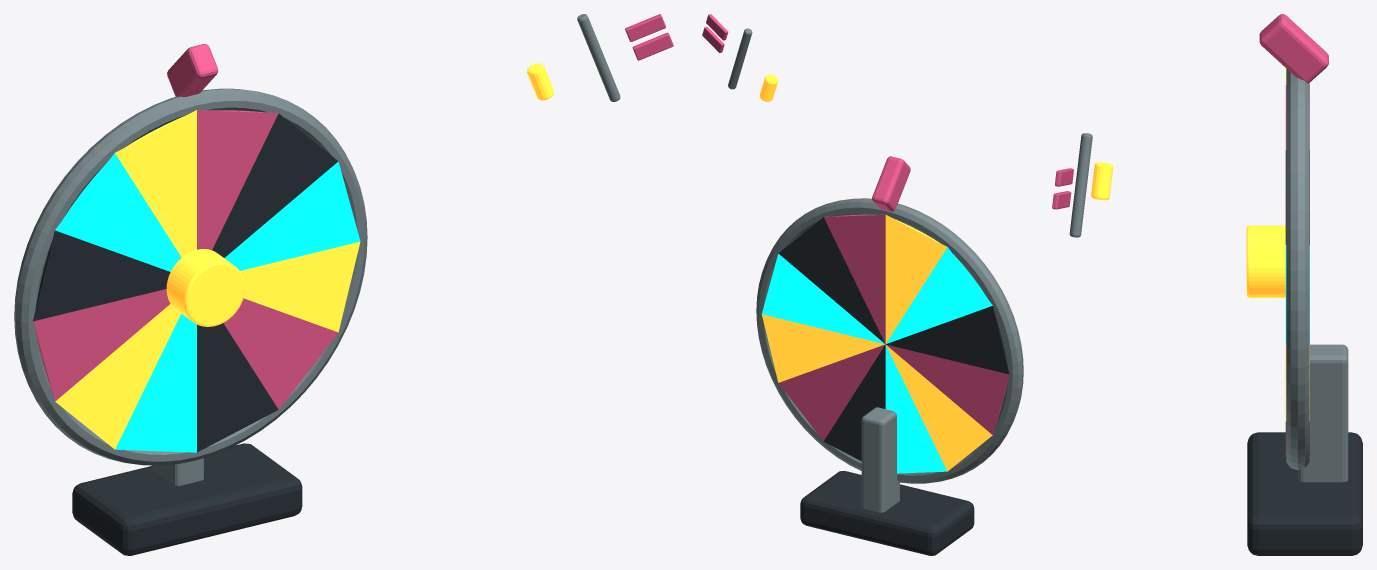
File: roulette.glb
The picture shows the model from 3 angles, left to right: view 1: azimuth 30°, elevation 25°; view 2: azimuth 150°, elevation 25°; view 3: azimuth 270°, elevation 25°; orthographic projection. The views are drawn at different scales.
Parts seen in each view (by area): view 1: RLT_OuterRim, RLT_Base, RLT_Wedge_06, RLT_Wedge_05, RLT_Wedge_04, RLT_Wedge_07, RLT_Wedge_03, RLT_Wedge_08, RLT_Wedge_02, RLT_Wedge_09, RLT_Wedge_01, RLT_Wedge_12 (+6 smaller); view 2: RLT_OuterRim, RLT_Base, RLT_Wedge_04, RLT_Wedge_06, RLT_Wedge_03, RLT_Wedge_05, RLT_Wedge_07, RLT_Wedge_12, RLT_Wedge_02, RLT_Wedge_01, RLT_Wedge_08, RLT_Wedge_11 (+5 smaller); view 3: RLT_Base, RLT_OuterRim, RLT_Post, RLT_Hub, RLT_TopPointer, RLT_DartShaft, RLT_DartTip.
Boxes of the visible parts, <box> form: RLT_OuterRim: <box>14,88,367,465</box>; RLT_Base: <box>72,443,302,555</box>; RLT_Wedge_06: <box>33,230,170,321</box>; RLT_Wedge_05: <box>55,153,181,271</box>; RLT_Wedge_04: <box>115,110,196,257</box>; RLT_Wedge_07: <box>33,289,170,401</box>; RLT_Wedge_03: <box>197,110,278,250</box>; RLT_Wedge_08: <box>55,304,180,449</box>; RLT_Wedge_02: <box>212,113,338,257</box>; RLT_Wedge_09: <box>115,313,196,452</box>; RLT_Wedge_01: <box>224,161,360,270</box>; RLT_Wedge_12: <box>240,241,360,332</box>; RLT_OuterRim: <box>756,198,1023,483</box>; RLT_Base: <box>800,471,974,555</box>; RLT_Wedge_04: <box>885,215,947,343</box>; RLT_Wedge_06: <box>886,306,1009,374</box>; RLT_Wedge_03: <box>824,214,885,343</box>; RLT_Wedge_05: <box>886,247,992,343</box>; RLT_Wedge_07: <box>886,344,1009,434</box>; RLT_Wedge_12: <box>762,314,884,382</box>; RLT_Wedge_02: <box>778,217,884,343</box>; RLT_Wedge_01: <box>762,254,884,343</box>; RLT_Wedge_08: <box>886,345,992,471</box>; RLT_Wedge_11: <box>778,344,884,441</box>; RLT_Base: <box>1247,432,1362,555</box>; RLT_OuterRim: <box>1286,69,1309,470</box>; RLT_Post: <box>1298,344,1348,482</box>; RLT_Hub: <box>1246,225,1285,297</box>; RLT_TopPointer: <box>1259,14,1328,83</box>; RLT_DartShaft: <box>1069,133,1092,237</box>; RLT_DartTip: <box>1091,162,1113,200</box>.
Size of the model in its own units: 8.91 by 8.05 by 4.3.
